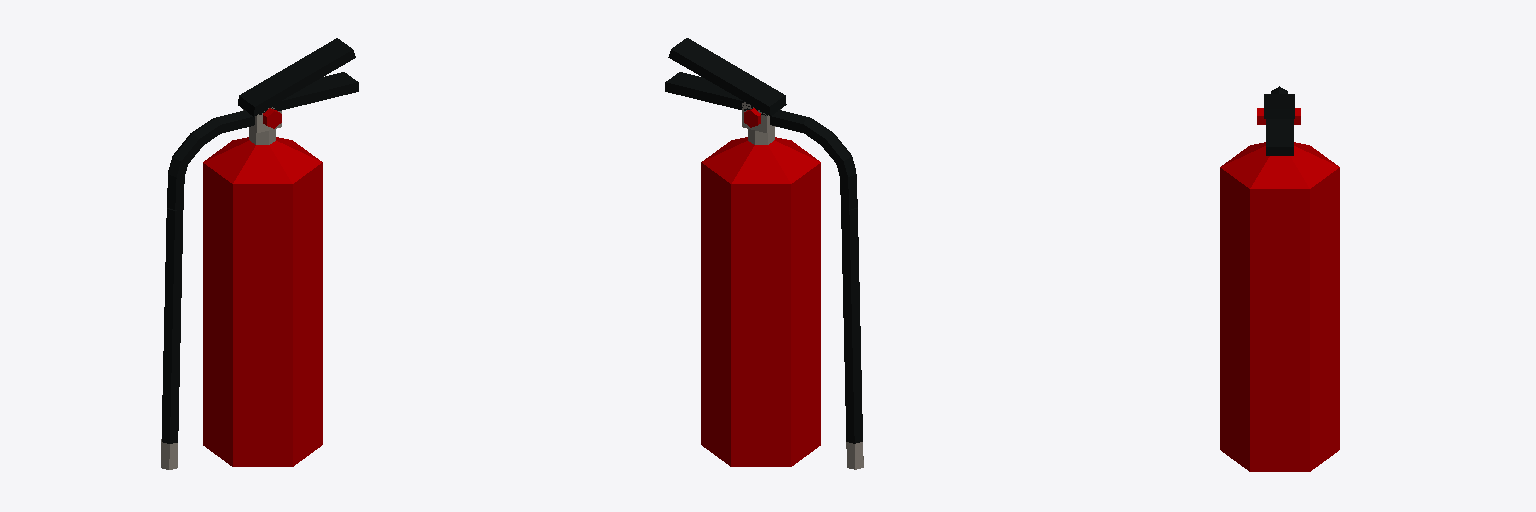
Rendered from Fire_Extinguisher.obj.
3 views of the same model, side by side, from view 1: azimuth 30°, elevation 25°; view 2: azimuth 150°, elevation 25°; view 3: azimuth 270°, elevation 25° (orthographic).
Visible parts, largest first — view 1: Cube_Cube.002; view 2: Cube_Cube.002; view 3: Cube_Cube.002.
Boxes of the visible parts, <box> form: Cube_Cube.002: <box>161,38,358,469</box>; Cube_Cube.002: <box>665,38,863,469</box>; Cube_Cube.002: <box>1220,86,1339,471</box>.
Size of the model in its own units: 0.1362 by 0.2602 by 0.0742.